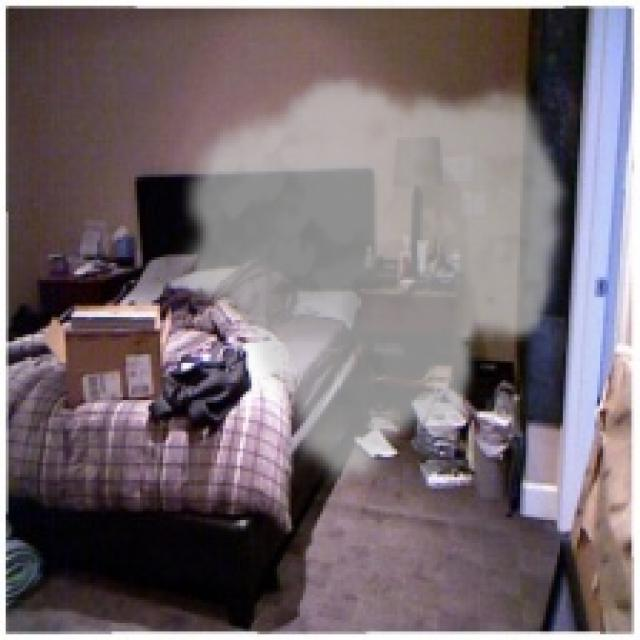smoke: (172, 71, 572, 492)
